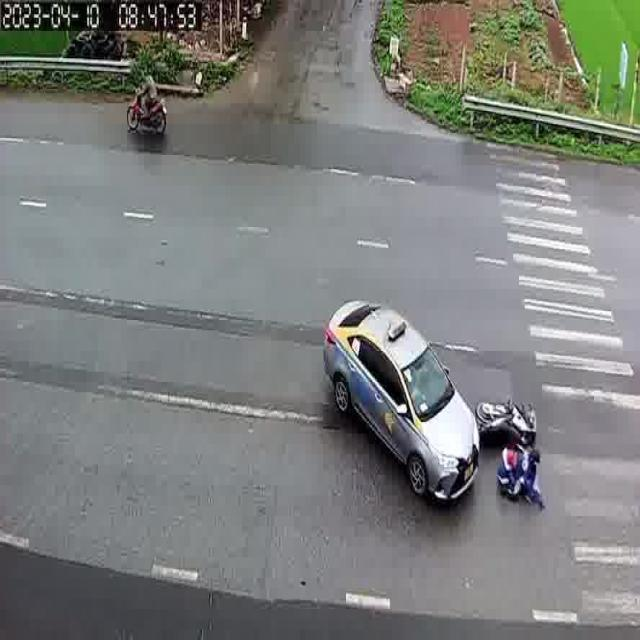multiple_accident: (318, 288, 549, 524)
normal: (117, 60, 179, 150)
